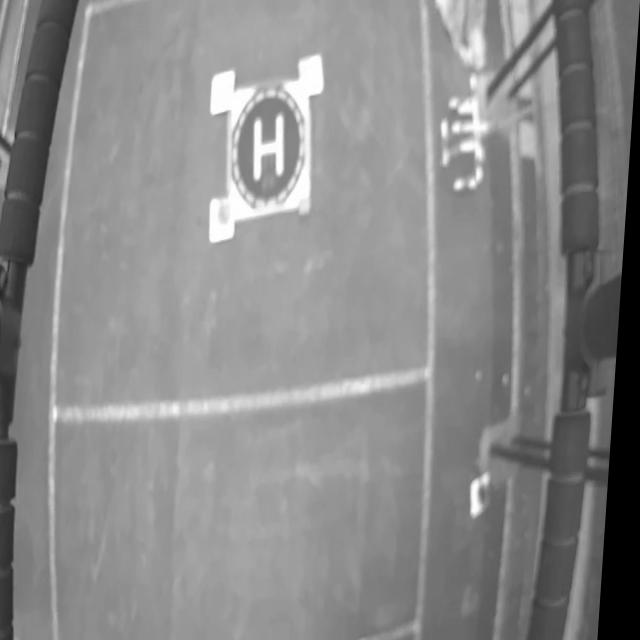Helipad: (255, 114, 286, 182)
